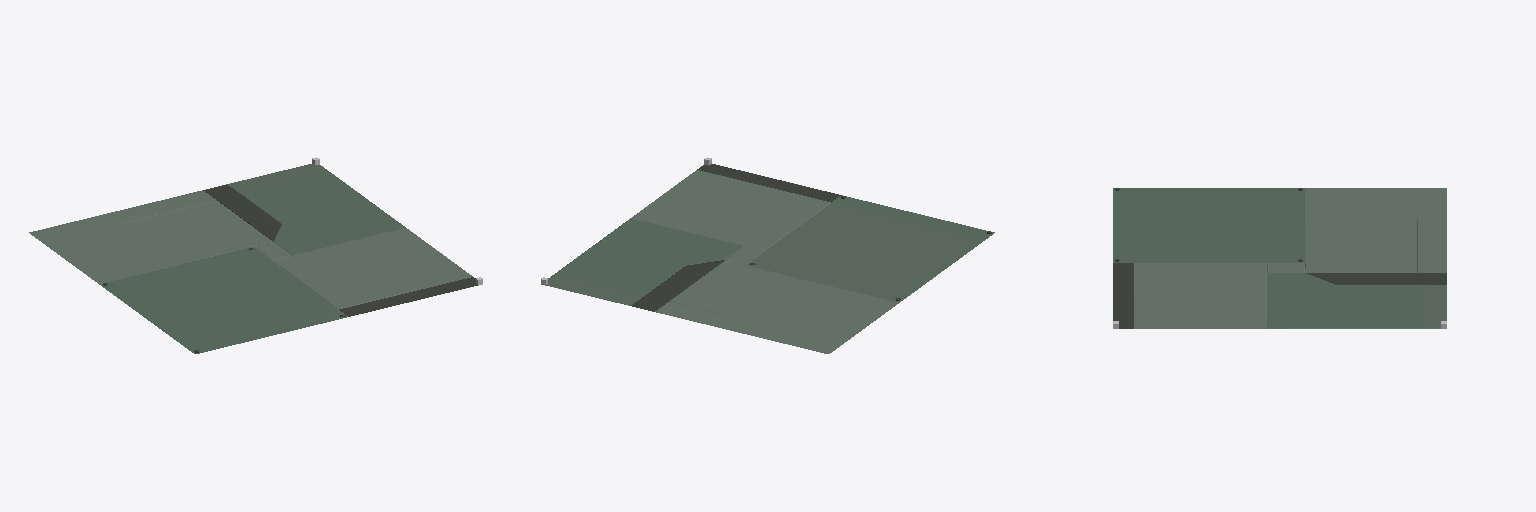
3 views of the same model, side by side, from view 1: azimuth 30°, elevation 25°; view 2: azimuth 150°, elevation 25°; view 3: azimuth 270°, elevation 25° (orthographic).
Visible parts, largest first — view 1: Scifi_Panel_04_Plaza014_group4.028_Scifi_Panel_04_Plaza014_group; view 2: Scifi_Panel_04_Plaza014_group4.028_Scifi_Panel_04_Plaza014_group; view 3: Scifi_Panel_04_Plaza014_group4.028_Scifi_Panel_04_Plaza014_group.
Part boxes in pixels (bbox=[...]): Scifi_Panel_04_Plaza014_group4.028_Scifi_Panel_04_Plaza014_group: bbox=[29, 164, 477, 353]; Scifi_Panel_04_Plaza014_group4.028_Scifi_Panel_04_Plaza014_group: bbox=[546, 164, 994, 353]; Scifi_Panel_04_Plaza014_group4.028_Scifi_Panel_04_Plaza014_group: bbox=[1113, 188, 1446, 328].
Size of the model in its own units: 10 by 0.1734 by 10.